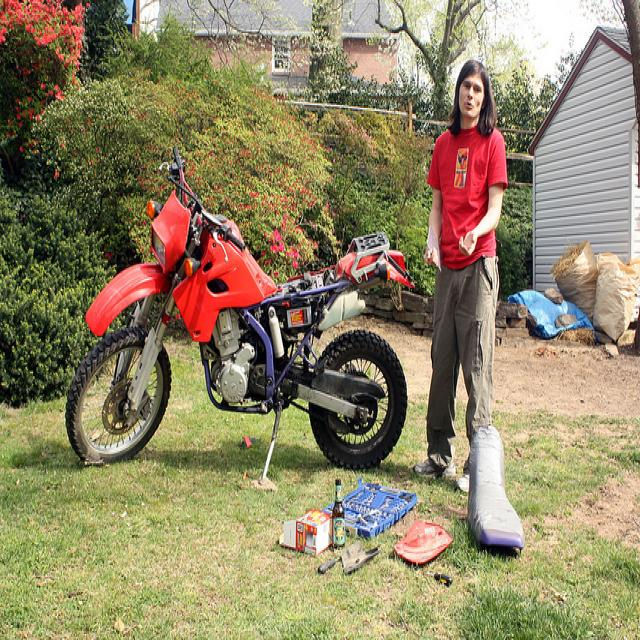motor: (63, 134, 417, 486)
